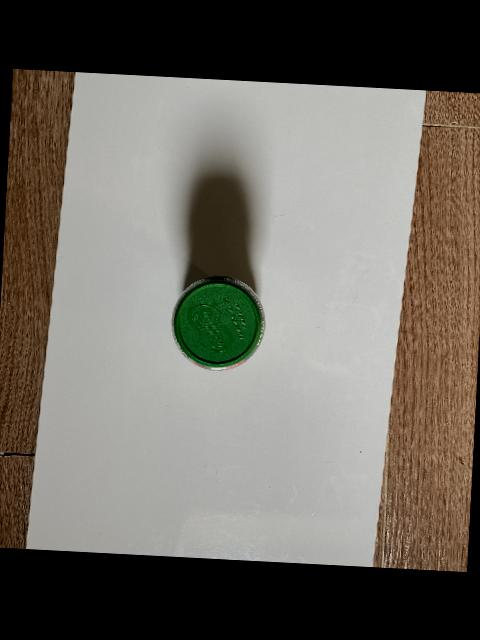milo: (172, 274, 266, 370)
